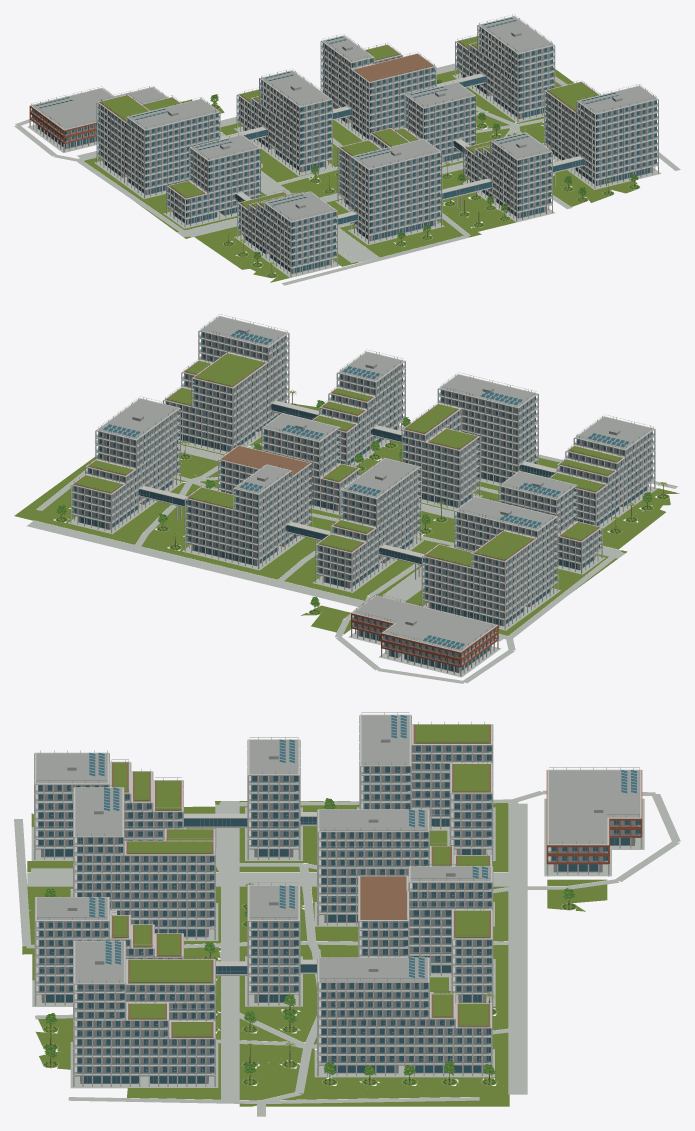
Rendered from dorm56-lod0.glb.
3 views of the same model, one above another, from view 1: azimuth 30°, elevation 25°; view 2: azimuth 150°, elevation 25°; view 3: azimuth 270°, elevation 25° (orthographic). The views are drawn at different scales.
Visible parts, largest first — view 1: projecting white floor bands | ivory metal, recessed grey dormitory walls | grey tile, blue recessed room windows | window, transparent balcony guards | glass rail, flat roofs and service enclosures | roof, courtyard and perimeter planted lawns | lawn, continuous courtyard paving | pale paving, window mullions and balcony rails | metal frame, terrace planted beds | lawn, terrace red paving | terrace pavers, elevated glass link decks and roof | ivory metal, glazed link curtain wall | window (+4 smaller); view 2: projecting white floor bands | ivory metal, recessed grey dormitory walls | grey tile, blue recessed room windows | window, transparent balcony guards | glass rail, flat roofs and service enclosures | roof, courtyard and perimeter planted lawns | lawn, continuous courtyard paving | pale paving, window mullions and balcony rails | metal frame, terrace planted beds | lawn, terrace red paving | terrace pavers, red brick service building piers | brick, elevated glass link decks and roof | ivory metal (+3 smaller); view 3: projecting white floor bands | ivory metal, blue recessed room windows | window, recessed grey dormitory walls | grey tile, continuous courtyard paving | pale paving, courtyard and perimeter planted lawns | lawn, flat roofs and service enclosures | roof, transparent balcony guards | glass rail, window mullions and balcony rails | metal frame, terrace planted beds | lawn, terrace red paving | terrace pavers, layered leaf canopy | leaf shadow, red brick service building piers | brick (+4 smaller).
Part boxes in pixels (x1,y1,x2,y2): projecting white floor bands | ivory metal: (29,16,658,276); recessed grey dormitory walls | grey tile: (35,29,654,273); blue recessed room windows | window: (32,17,656,272); transparent balcony guards | glass rail: (30,29,657,267); flat roofs and service enclosures | roof: (32,16,656,221); courtyard and perimeter planted lawns | lawn: (84,67,639,282); continuous courtyard paving | pale paving: (14,63,680,285); window mullions and balcony rails | metal frame: (31,14,657,271); terrace planted beds | lawn: (100,37,598,208); terrace red paving | terrace pavers: (99,36,598,209); elevated glass link decks and roof | ivory metal: (219,73,583,226); glazed link curtain wall | window: (235,76,584,224); projecting white floor bands | ivory metal: (70,315,655,676); recessed grey dormitory walls | grey tile: (74,332,651,672); blue recessed room windows | window: (73,330,652,671); transparent balcony guards | glass rail: (71,335,654,665); flat roofs and service enclosures | roof: (98,316,652,651); courtyard and perimeter planted lawns | lawn: (14,403,679,635); continuous courtyard paving | pale paving: (26,425,677,683); window mullions and balcony rails | metal frame: (72,314,654,670); terrace planted beds | lawn: (75,353,620,566); terrace red paving | terrace pavers: (73,353,622,567); red brick service building piers | brick: (351,596,498,667); elevated glass link decks and roof | ivory metal: (140,400,559,579); projecting white floor bands | ivory metal: (34,714,642,1086); blue recessed room windows | window: (38,715,640,1083); recessed grey dormitory walls | grey tile: (38,745,637,1083); continuous courtyard paving | pale paving: (14,790,680,1116); courtyard and perimeter planted lawns | lawn: (22,801,607,1106); flat roofs and service enclosures | roof: (36,715,639,982); transparent balcony guards | glass rail: (35,751,640,1074); window mullions and balcony rails | metal frame: (36,712,640,1082); terrace planted beds | lawn: (113,724,489,1036); terrace red paving | terrace pavers: (112,724,490,1037); layered leaf canopy | leaf shadow: (44,798,574,1075); red brick service building piers | brick: (546,770,642,864).
Size of the model in its own units: 260 by 40.17 by 225.
